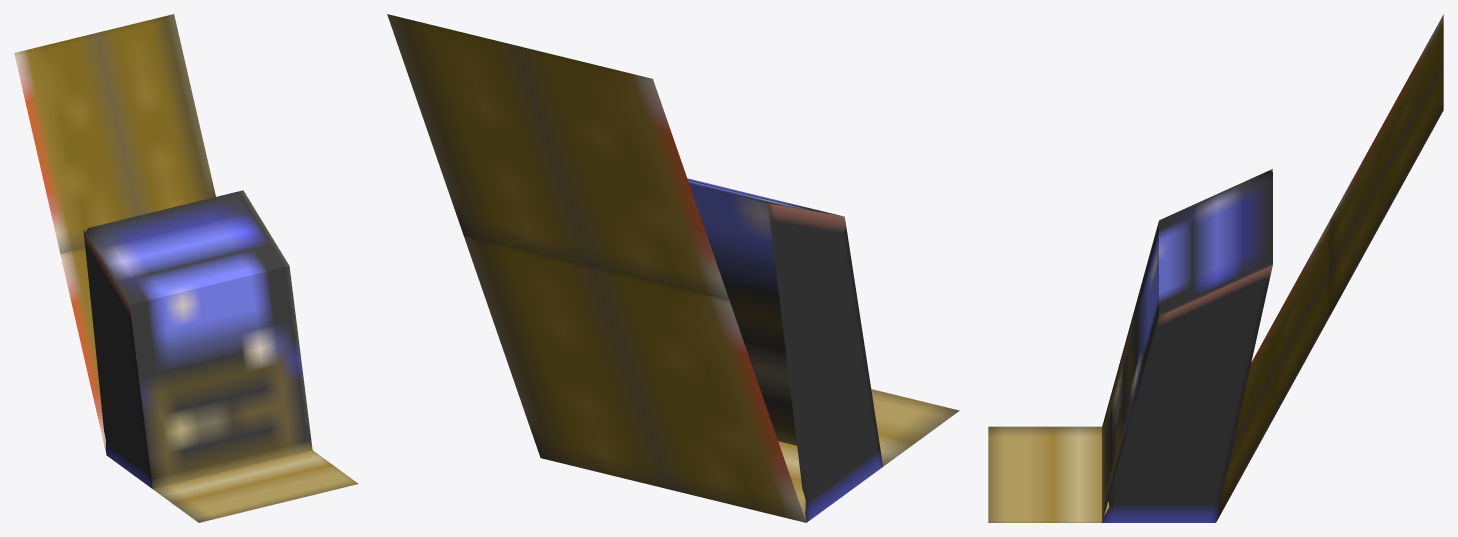
The model's file is tile_indoors_tv_2.obj.
3 views of the same model, side by side, from view 1: azimuth 30°, elevation 25°; view 2: azimuth 150°, elevation 25°; view 3: azimuth 270°, elevation 25° (orthographic). The views are drawn at different scales.
Visible parts, largest first — view 1: Default; view 2: Default; view 3: Default.
Boxes of the visible parts, x1,y1,x2,y2 form: Default: (14, 14, 358, 522); Default: (387, 14, 959, 522); Default: (988, 14, 1443, 522).
Size of the model in its own units: 1 by 2 by 2.
